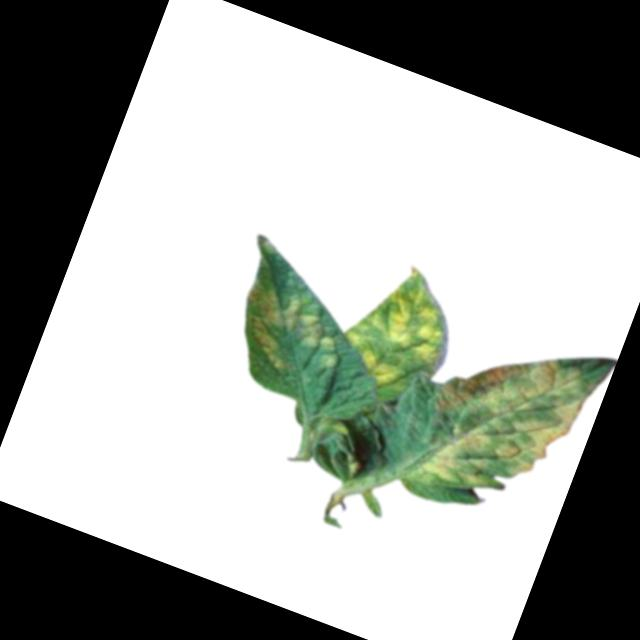Leaf_Mold: (404, 322, 607, 530), (333, 257, 468, 404), (226, 277, 352, 387)
